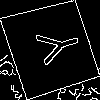Y: (25, 23, 84, 69)
